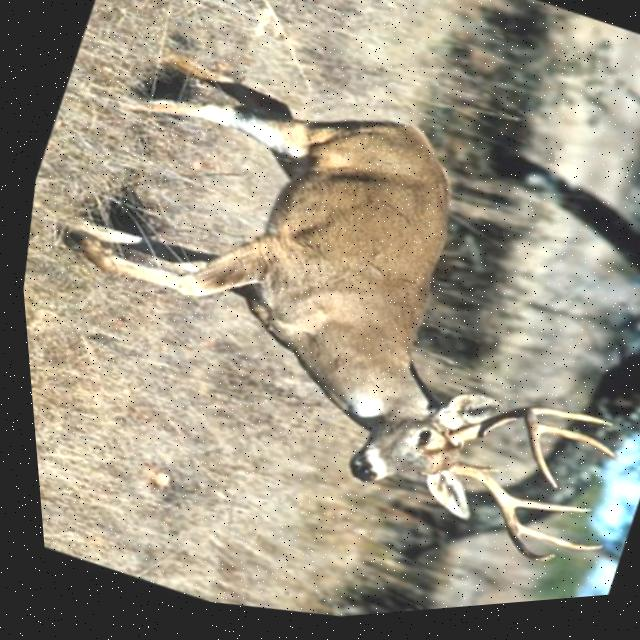L-F: (441, 415, 550, 497)
L-G2: (517, 412, 606, 436)
L-G3: (530, 429, 611, 471)
R-F: (446, 467, 545, 571)
R-G2: (499, 502, 582, 522)
R-G3: (510, 531, 594, 561)
